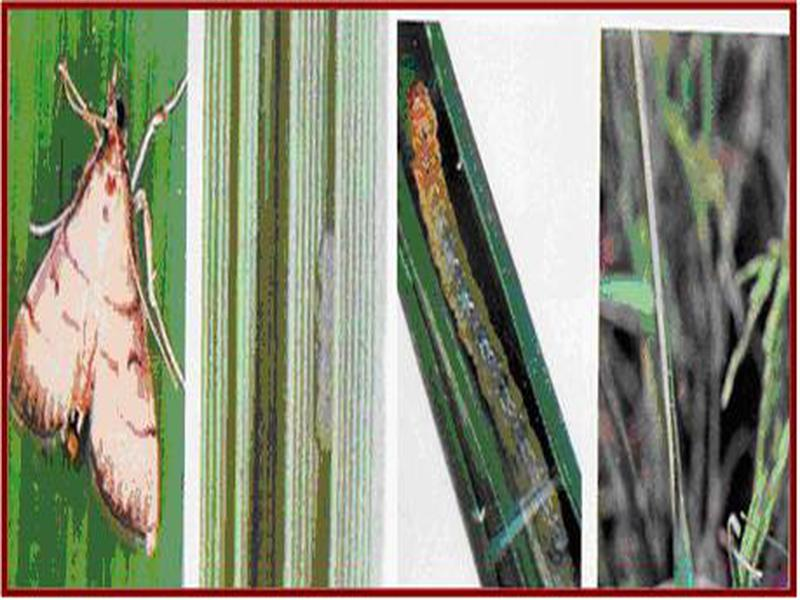Leaf_folder: (399, 69, 587, 564), (19, 103, 180, 557)
